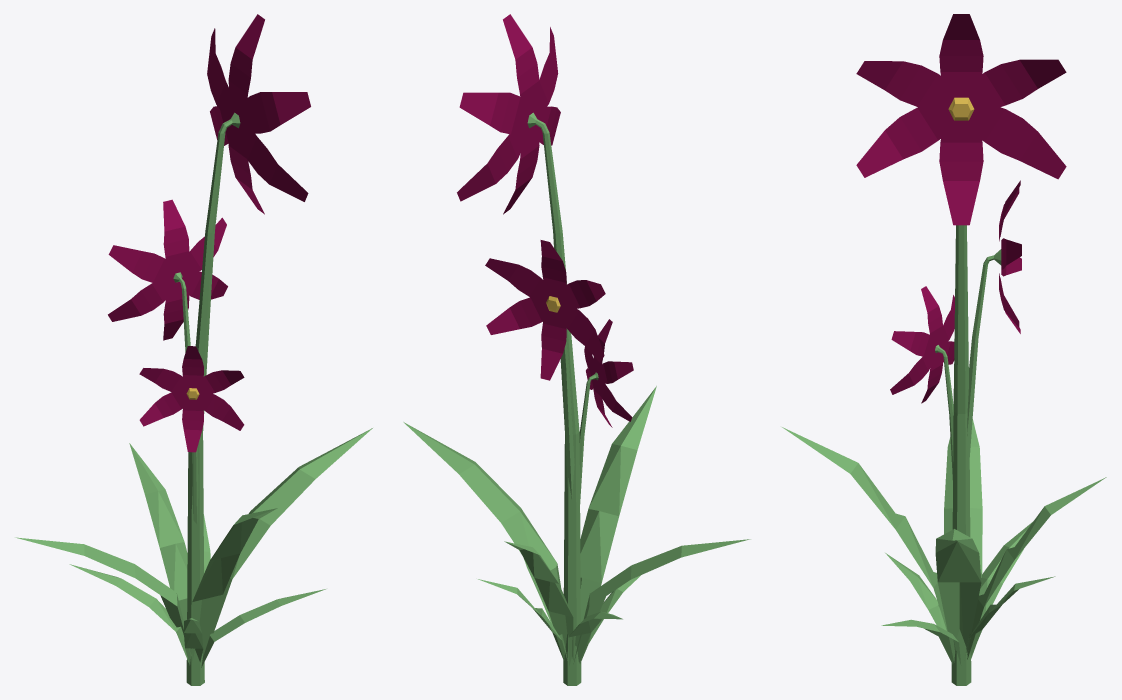
Rendered from Flower Plant.fbx.
The picture shows the model from 3 angles, left to right: view 1: azimuth 30°, elevation 25°; view 2: azimuth 150°, elevation 25°; view 3: azimuth 270°, elevation 25°; orthographic projection. The views are drawn at different scales.
Parts seen in each view (by area): view 1: Flower Plant; view 2: Flower Plant; view 3: Flower Plant.
Part boxes in pixels (box(x1,y1,x2,y2)): Flower Plant: box(15, 14, 372, 685); Flower Plant: box(403, 14, 750, 685); Flower Plant: box(782, 14, 1106, 685).
Bounding box in the file's own units: 45.24 × 79.24 × 33.42.
